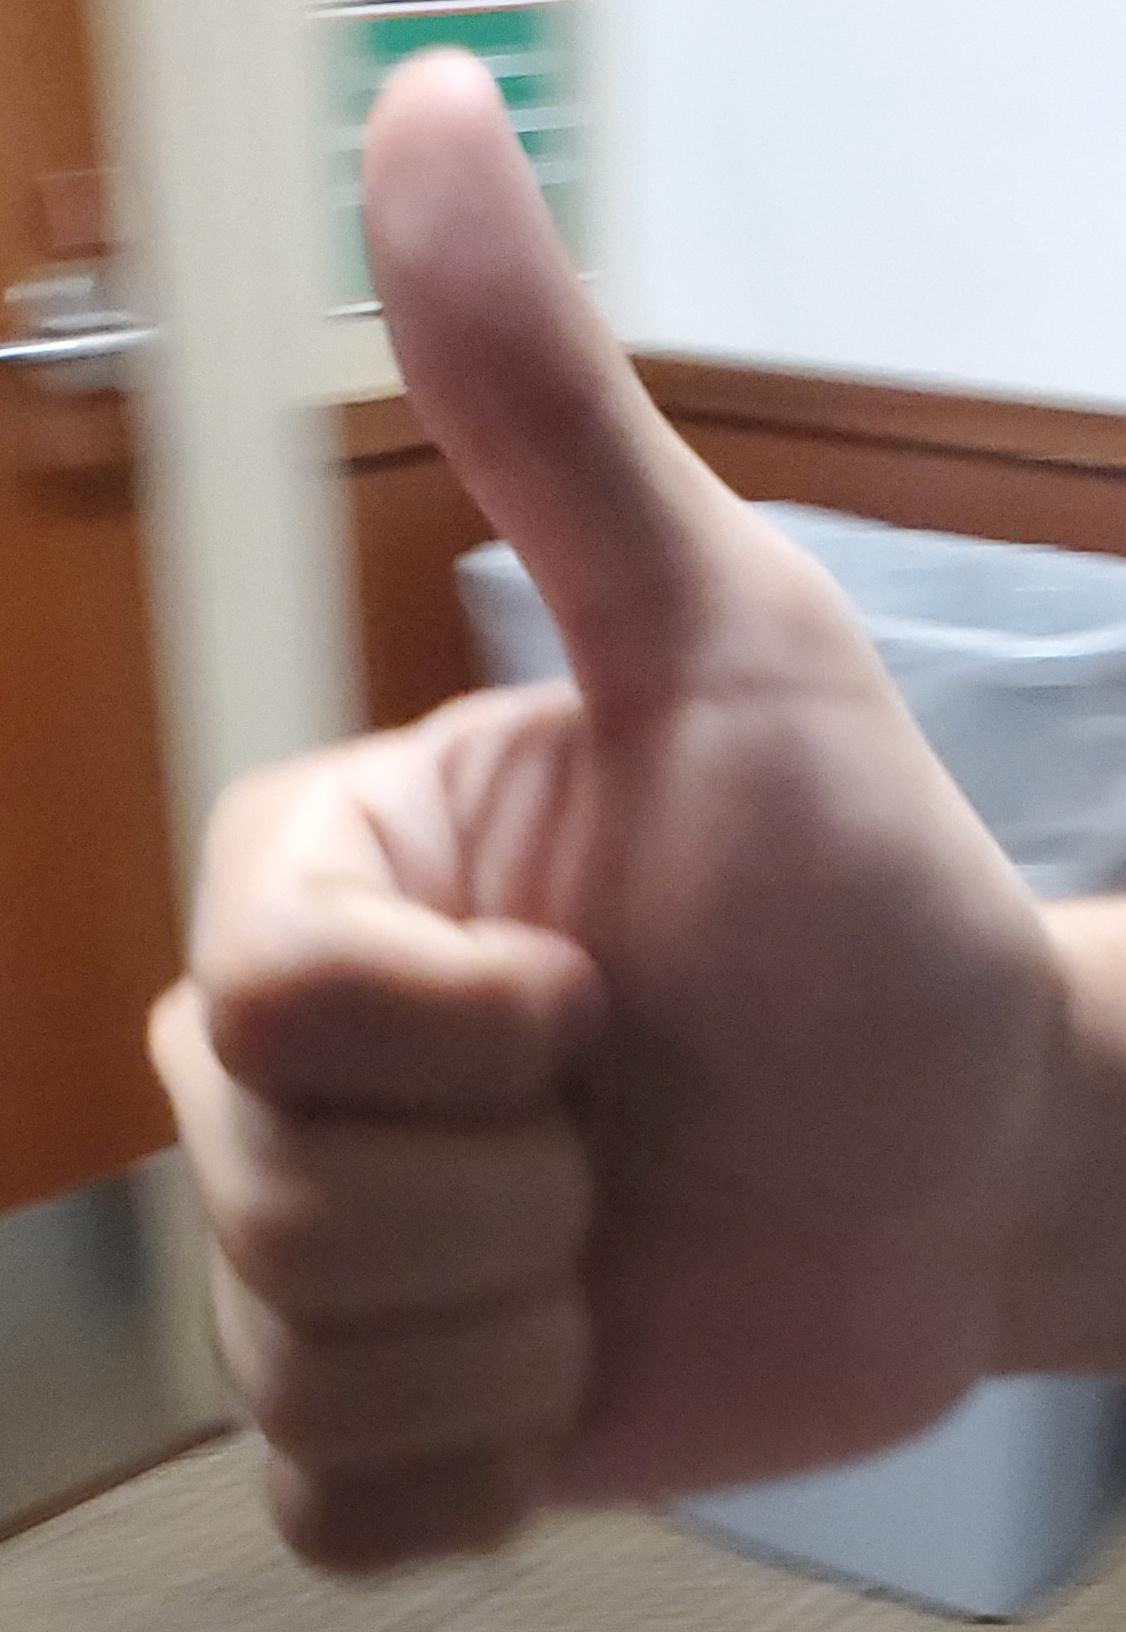up: (0, 1, 1126, 1632)
